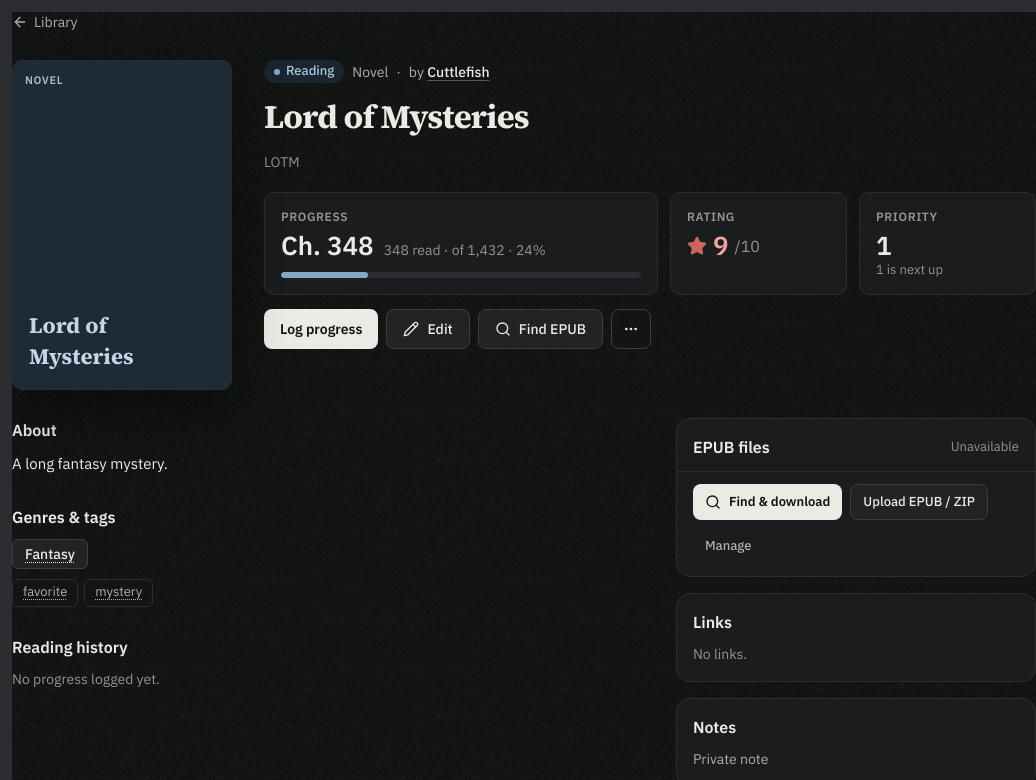
BookDetailsPage › shows tag descriptions through the shared metadata component
Step 1. Hover over the link "favorite" → x=45, y=593, box [12,579,78,607]
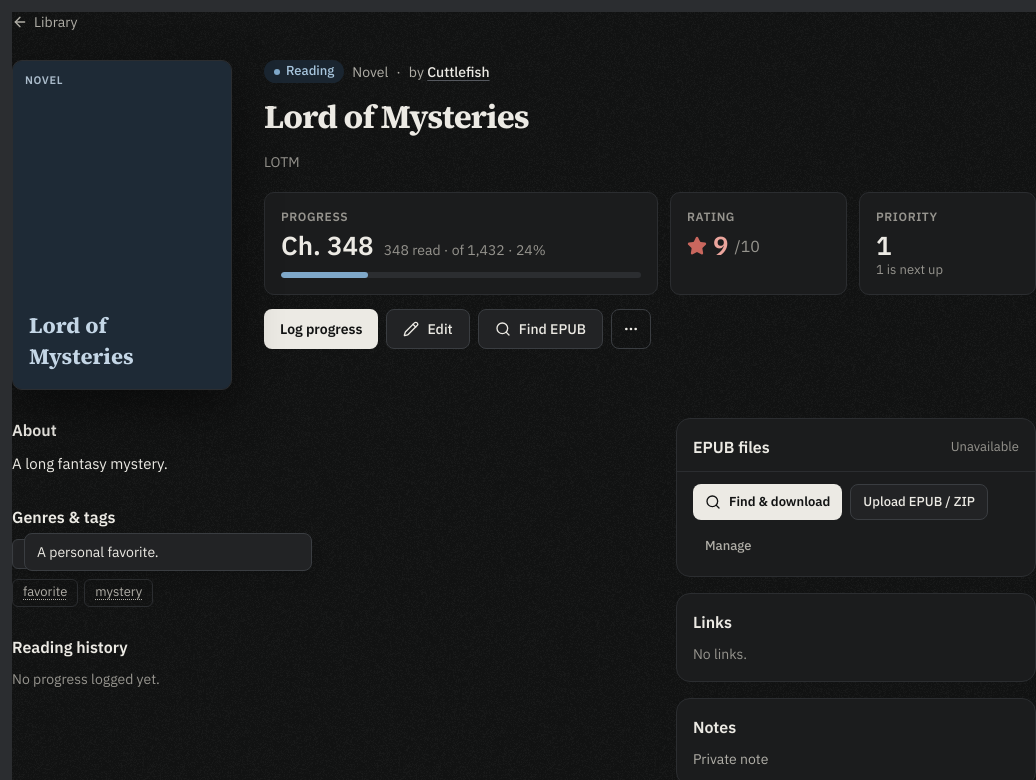
Expected: the tooltip reads "A personal favorite.", [37,543,159,561]
